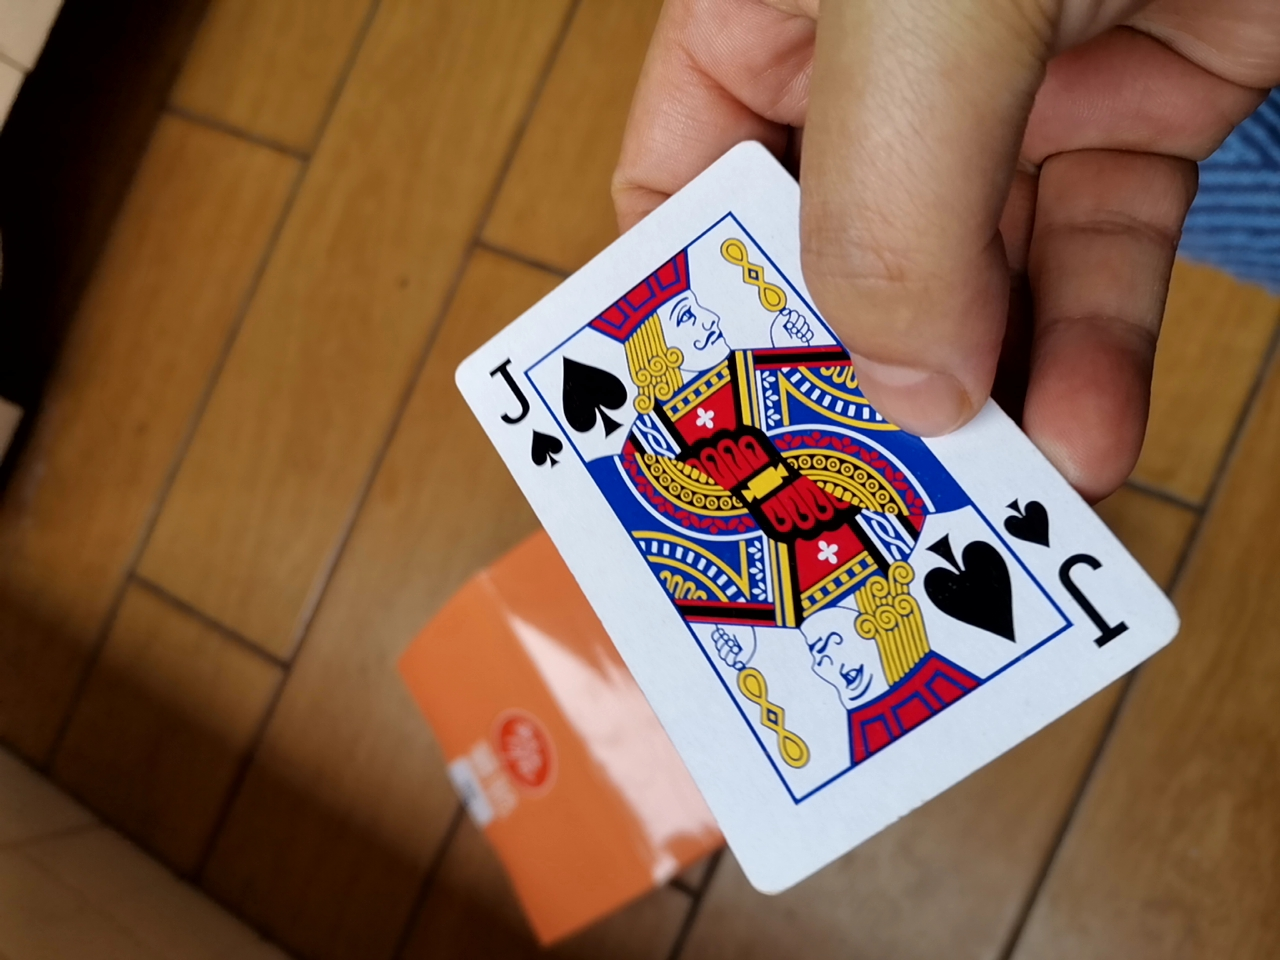ht j: (439, 121, 1135, 912)
